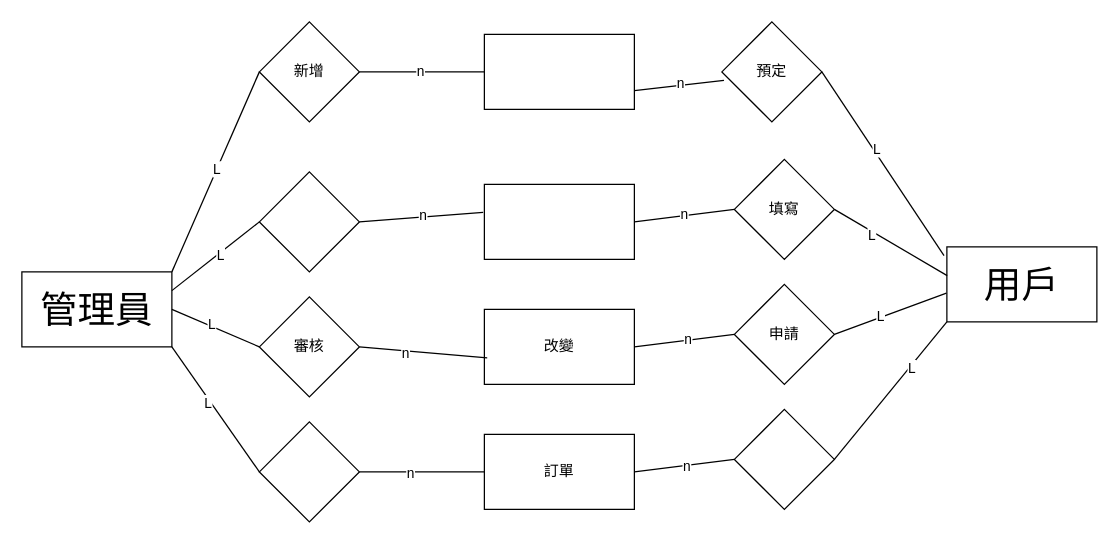
Some shapes in this 1119 by 544 pixel diagram are drawn without their labels. The centre of each missing label's shape, as x and y in pixels:
"回復" belongs at (x=308, y=221).
"查看" belongs at (x=783, y=458).
"火車票" belongs at (x=558, y=71).
"處理" belongs at (x=308, y=471).
"退票" belongs at (x=558, y=221).
